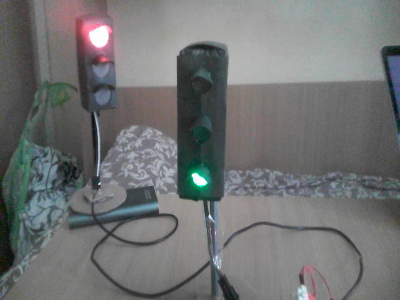trafficlight_green: (176, 53, 225, 200)
trafficlight_red: (82, 19, 114, 109)
